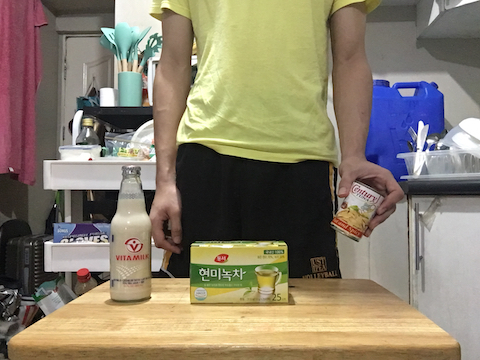bottle: (106, 162, 157, 305)
box: (183, 238, 294, 310)
can: (330, 178, 385, 242)
grab: (349, 159, 406, 238)
